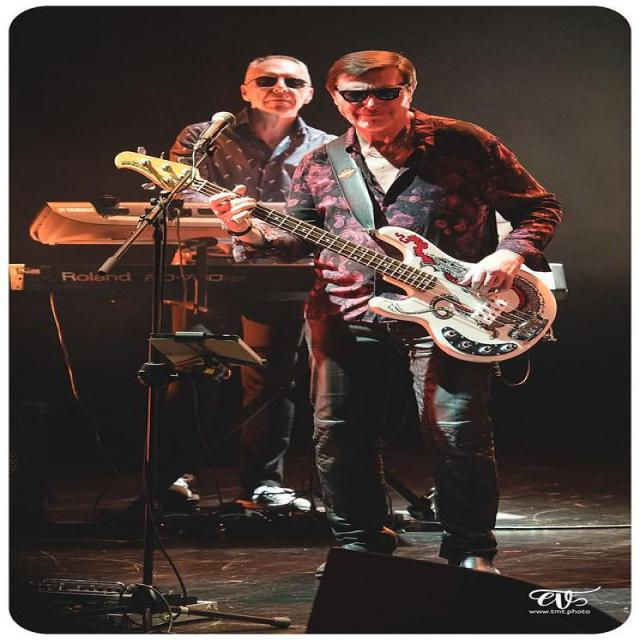bass: (252, 204, 556, 361)
